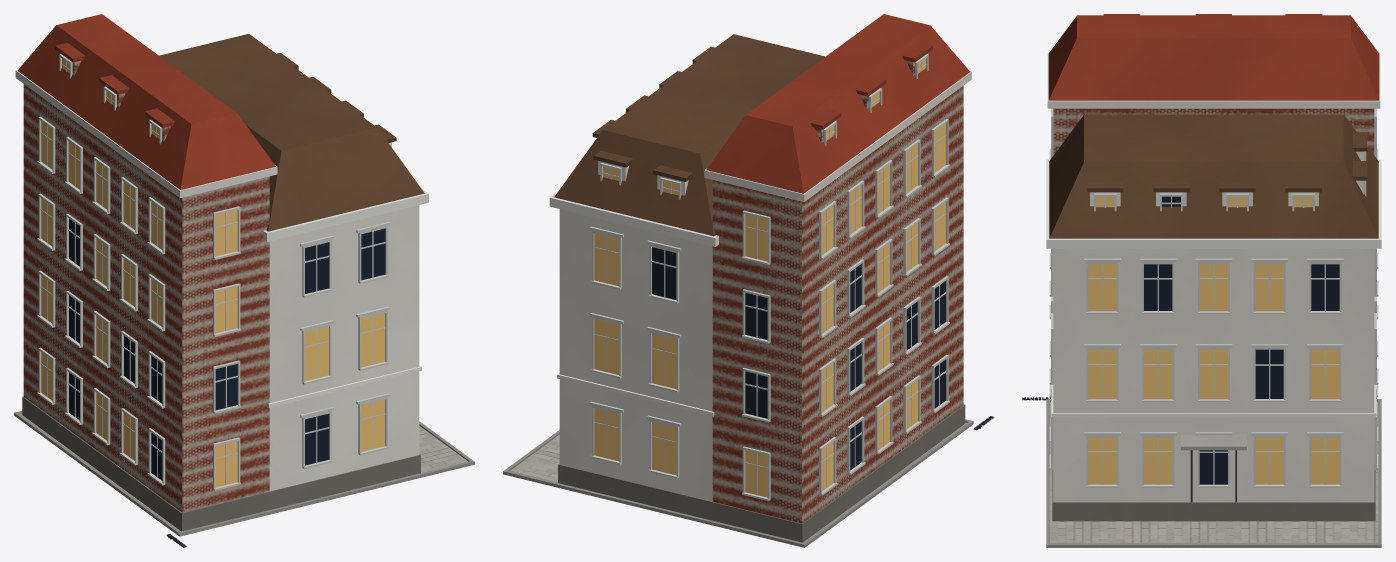
The model's file is dum_13_kancelarsky_blok.glb.
3 views of the same model, side by side, from view 1: azimuth 30°, elevation 25°; view 2: azimuth 150°, elevation 25°; view 3: azimuth 270°, elevation 25° (orthographic). The views are drawn at different scales.
Visible parts, largest first — view 1: dum, noc; view 2: dum, noc; view 3: dum, noc.
Boxes of the visible parts, <box> form: dum: <box>14,14,474,547</box>; noc: <box>41,58,385,487</box>; dum: <box>503,14,993,547</box>; noc: <box>594,59,945,497</box>; dum: <box>1022,14,1381,547</box>; noc: <box>1088,196,1339,484</box>.
Size of the model in its own units: 12.78 by 15.88 by 12.91.
Materials: 1 (1 with a texture image).
